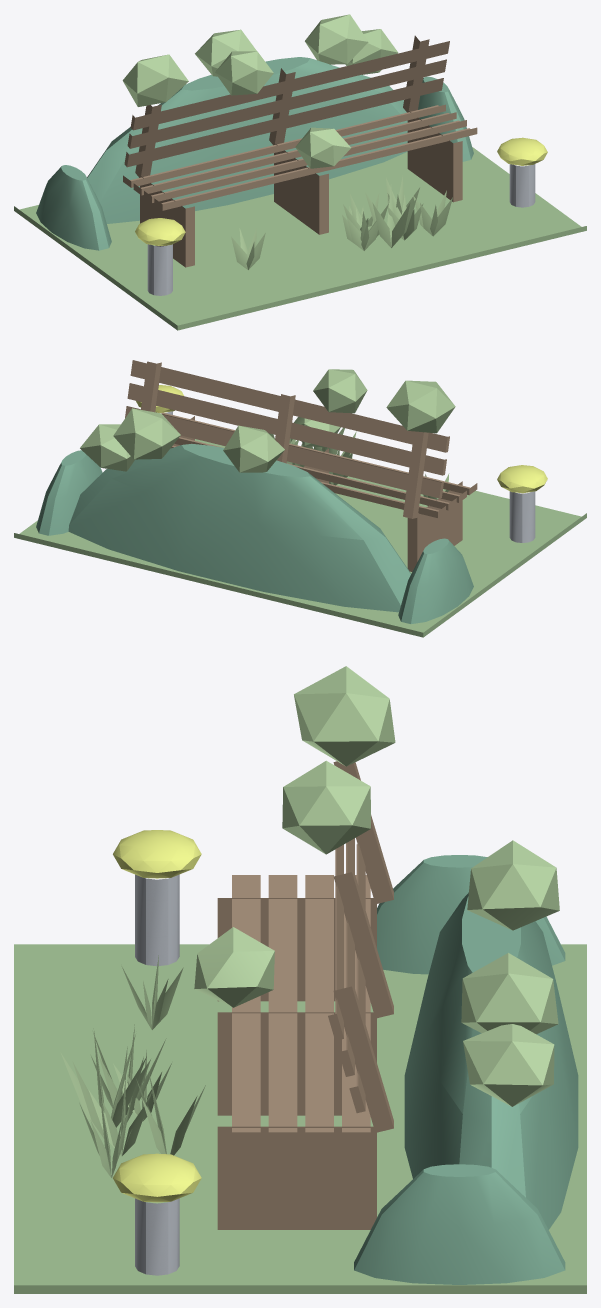
The picture shows the model from 3 angles, top to bottom: view 1: azimuth 30°, elevation 25°; view 2: azimuth 150°, elevation 25°; view 3: azimuth 270°, elevation 25°; orthographic projection. The views are drawn at different scales.
Parts seen in each view (by area): view 1: Safety_Pad, Terrain, Bench_Back, Foliage, Bench_Seat, Bench_Frame, Grass_Tufts, Mushroom_Stems, Mushroom_Caps; view 2: Terrain, Safety_Pad, Bench_Back, Foliage, Bench_Frame, Bench_Seat, Mushroom_Caps, Mushroom_Stems, Grass_Tufts; view 3: Safety_Pad, Terrain, Foliage, Bench_Frame, Bench_Seat, Grass_Tufts, Mushroom_Stems, Mushroom_Caps, Bench_Back.
Boxes of the visible parts, x1,y1,x2,y2 form: Safety_Pad: (14, 147, 586, 330); Terrain: (36, 57, 473, 250); Bench_Back: (124, 41, 449, 167); Foliage: (122, 14, 398, 168); Bench_Seat: (123, 104, 477, 210); Bench_Frame: (135, 35, 462, 267); Grass_Tufts: (231, 175, 452, 270); Mushroom_Stems: (147, 164, 535, 295); Mushroom_Caps: (135, 137, 547, 245); Terrain: (36, 443, 473, 623); Safety_Pad: (14, 439, 586, 637); Bench_Back: (125, 360, 449, 498); Foliage: (80, 369, 455, 472); Bench_Frame: (141, 361, 462, 571); Bench_Seat: (156, 412, 477, 517); Mushroom_Caps: (136, 385, 547, 493); Mushroom_Stems: (165, 411, 535, 542); Grass_Tufts: (269, 427, 449, 505); Safety_Pad: (14, 944, 586, 1293); Terrain: (354, 855, 578, 1284); Foliage: (194, 666, 559, 1106); Bench_Frame: (217, 761, 393, 1229); Bench_Seat: (232, 875, 370, 1143); Grass_Tufts: (60, 955, 205, 1177); Mushroom_Stems: (135, 874, 179, 1275); Mushroom_Caps: (113, 830, 201, 1202); Bench_Back: (328, 838, 365, 1113).
Size of what is drawn, in the model's own units: 2.6 by 1.13 by 1.8.
6 materials, 1 textured.
